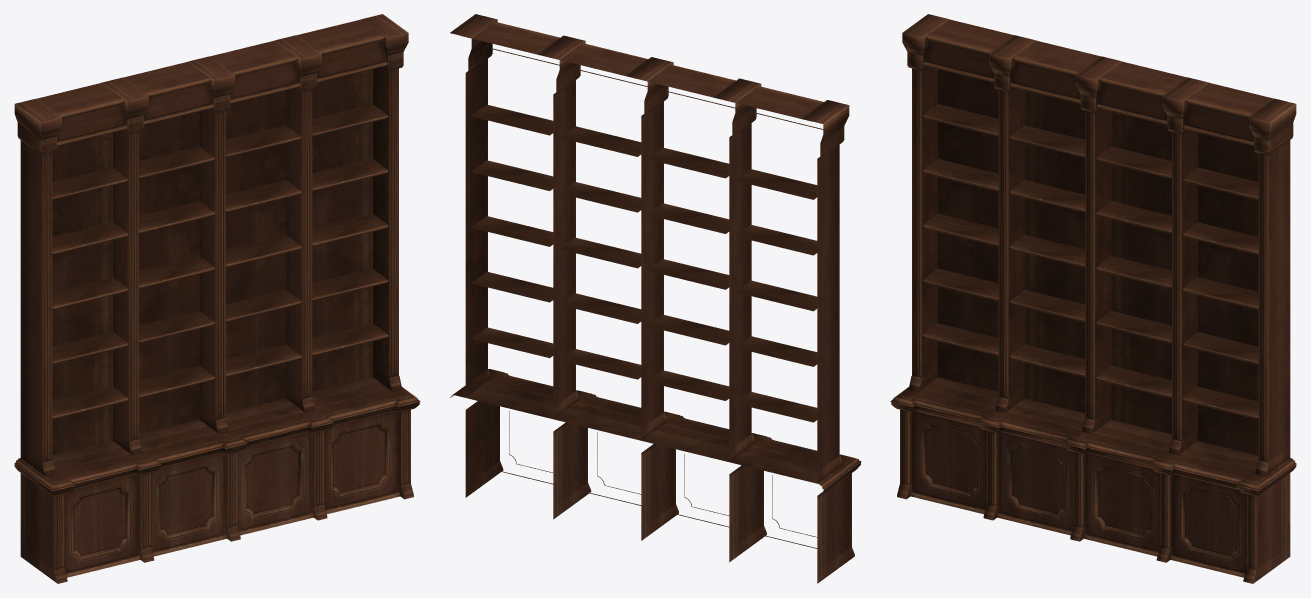
Rendered from bookcase.glb.
The picture shows the model from 3 angles, left to right: view 1: azimuth 30°, elevation 25°; view 2: azimuth 150°, elevation 25°; view 3: azimuth 330°, elevation 25°; orthographic projection.
Parts seen in each view (by area): view 1: bottom_lp.001; view 2: bottom_lp.001; view 3: bottom_lp.001.
Part boxes in pixels (bbox=[...]): bottom_lp.001: bbox=[14, 14, 420, 583]; bottom_lp.001: bbox=[450, 14, 861, 583]; bottom_lp.001: bbox=[890, 14, 1296, 583].
Size of the model in its own units: 3.84 by 4.51 by 0.6787.
Materials: 1 (1 with a texture image).
